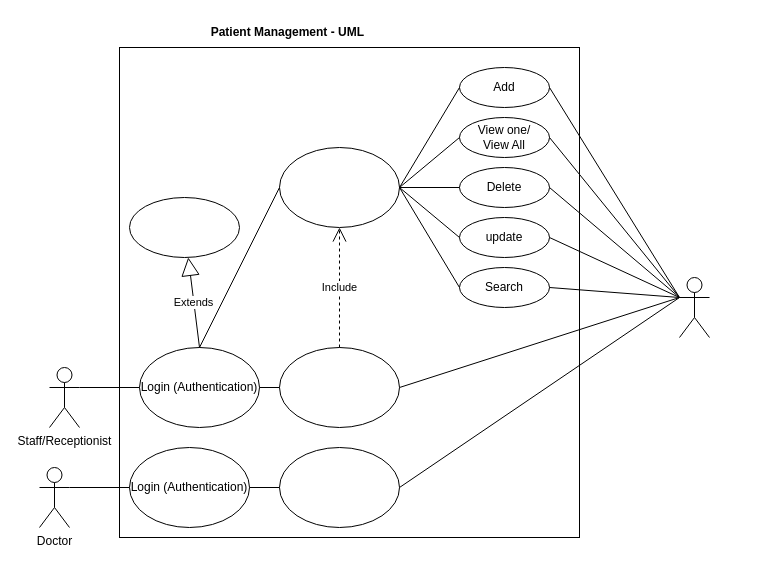
This 774x565 diagram has some shape labels left out. The shapes that lost their labels are listed below. From the top down, each one's centre as x and y in pixels, then its label:
At pixel 339 187: "Register Patient".
At pixel 184 227: "Handle Abort/ False Credentialing".
At pixel 694 307: "MediTech System & DB".
At pixel 339 387: "Schedule Appointment".
At pixel 339 487: "View Medical Record".
